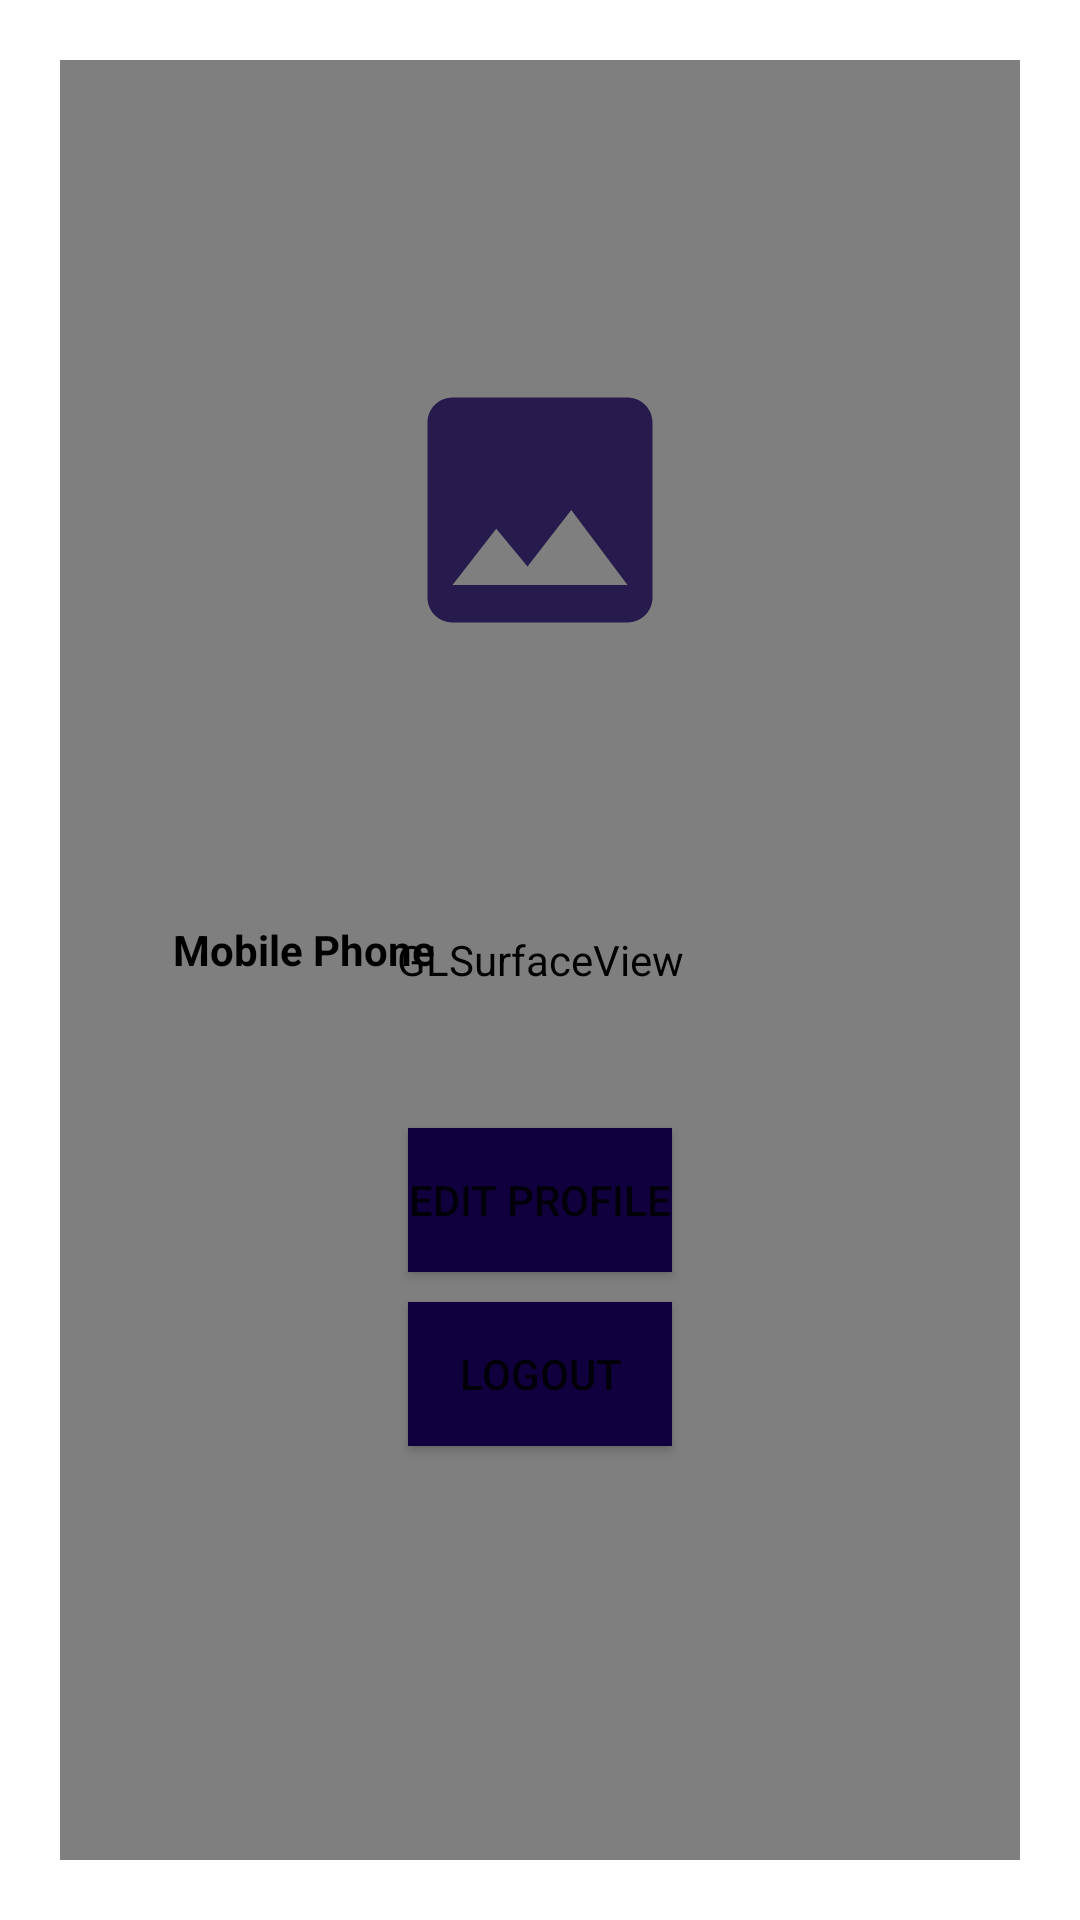

Icon click points for this 1080x1920 phone screenshot, format (x=x, y=y):
Choose Image: (x=540, y=510)
